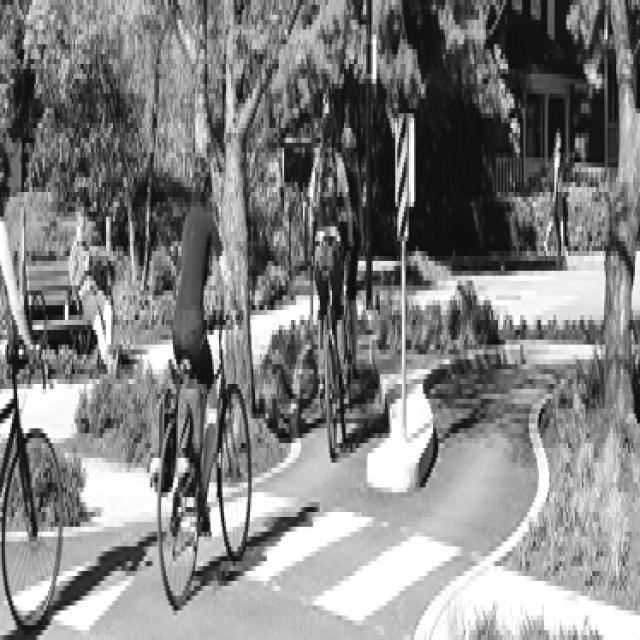Helmet: (184, 138, 216, 212)
